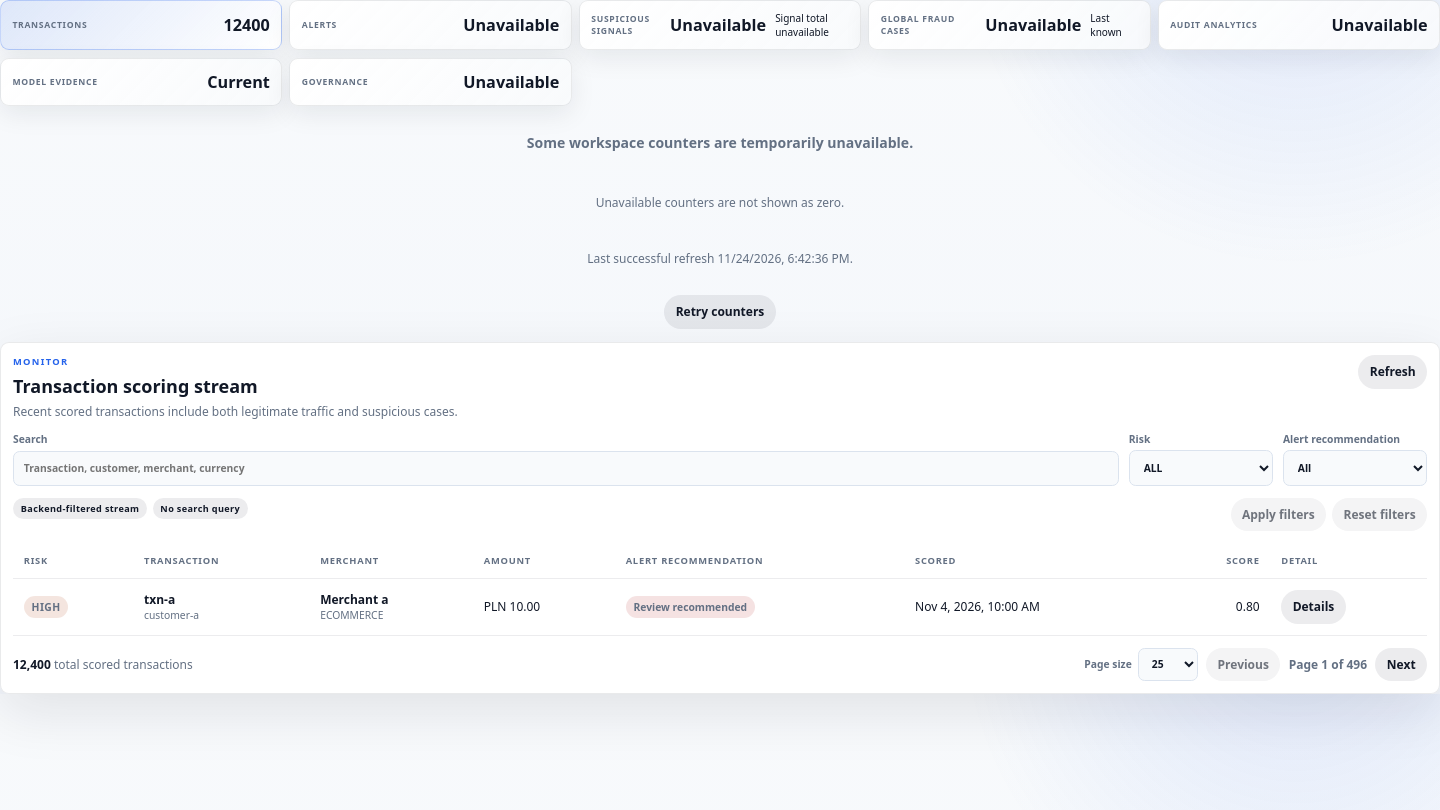
it: transaction scoring read boundary with real provider, API client, hooks and views › keeps the previous valid global count as last known after a filtered refresh fails
This screenshot has width=1440, height=810.
Expected: the link "Transactions 12400" is shown, [0,0,282,50]
Step 1. Type "narrowed" into the field labelled "Search" → (566, 469), box [13,452,1119,486]
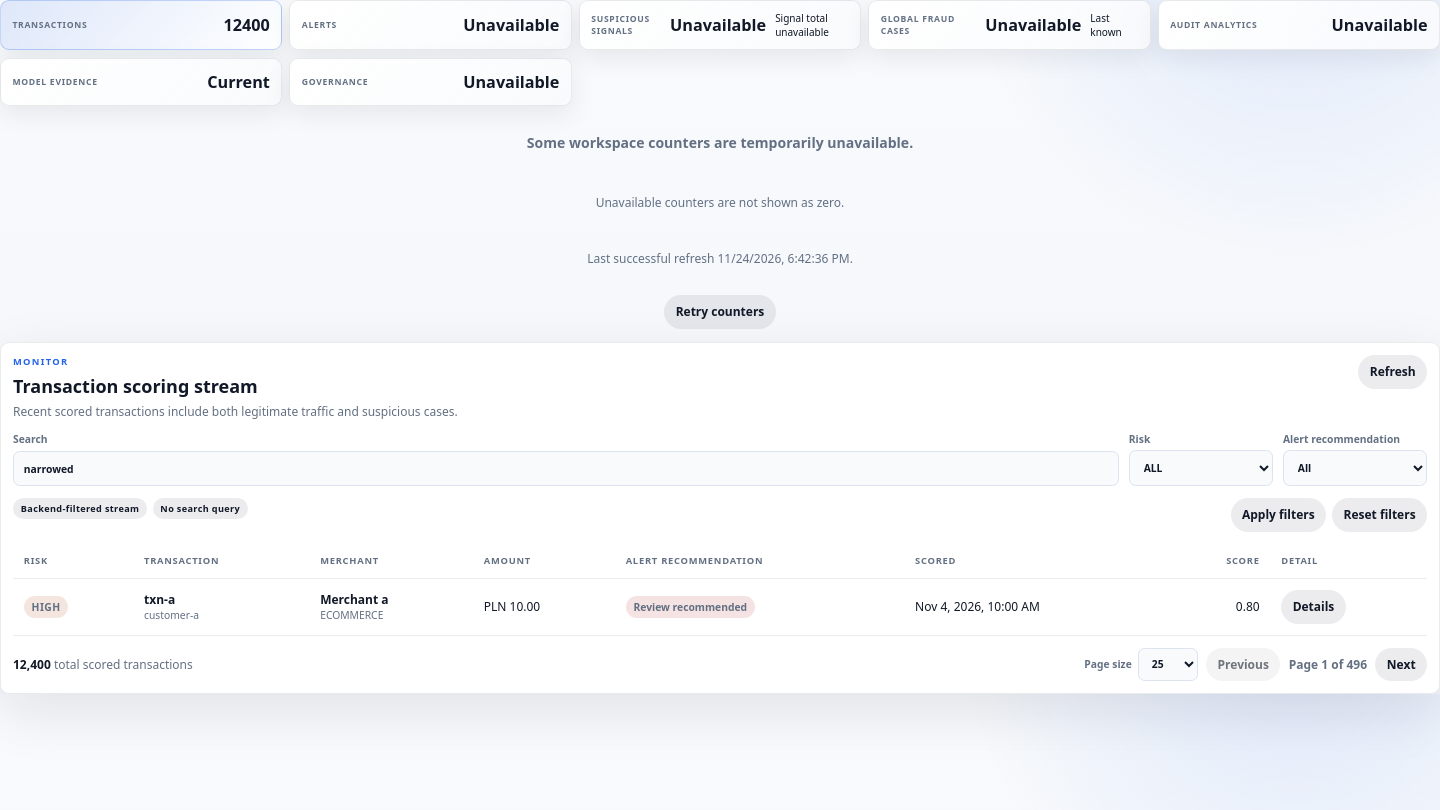
Step 2. Click the button "Apply filters" → (1278, 515), box [1231,498,1326,532]
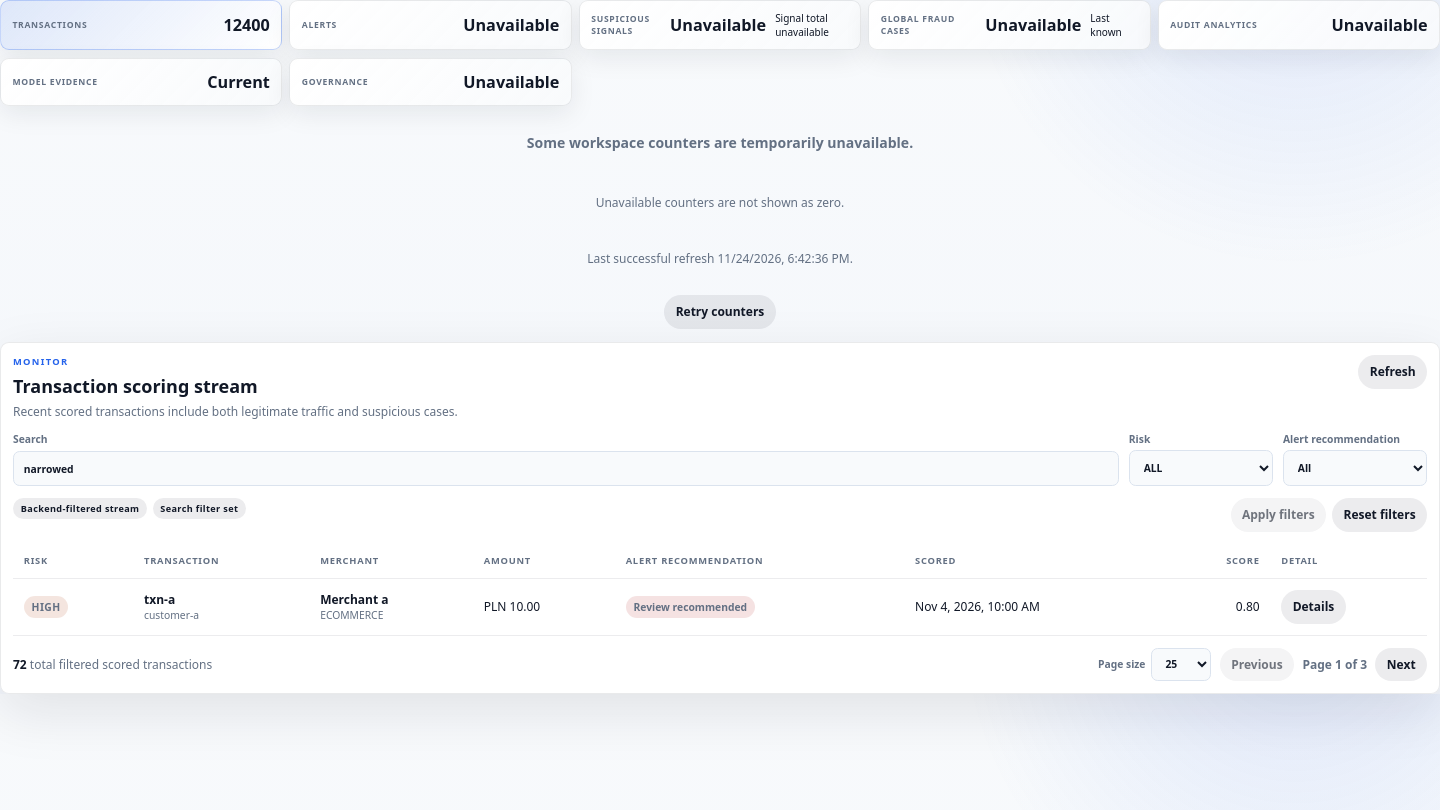
Expected: the text "Page 1 of 3" is shown, [1302,656,1367,673]
Step 3. Click the button "Retry counters" → (720, 312), box [664,295,776,329]
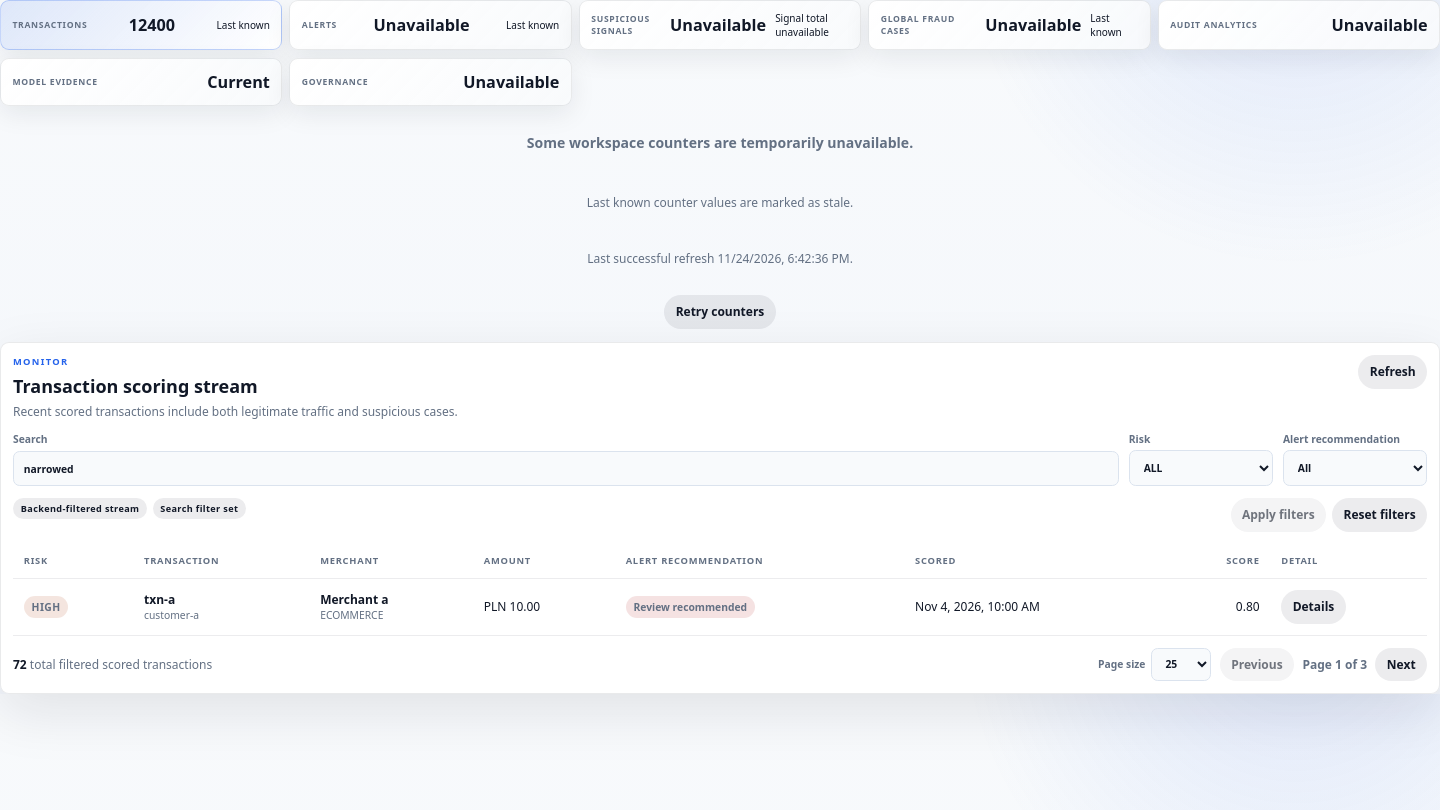
Expected: the text "72" is shown, [13,656,27,673]
Expected: the link "Transactions 12400 Last known" is shown, [0,0,282,50]
